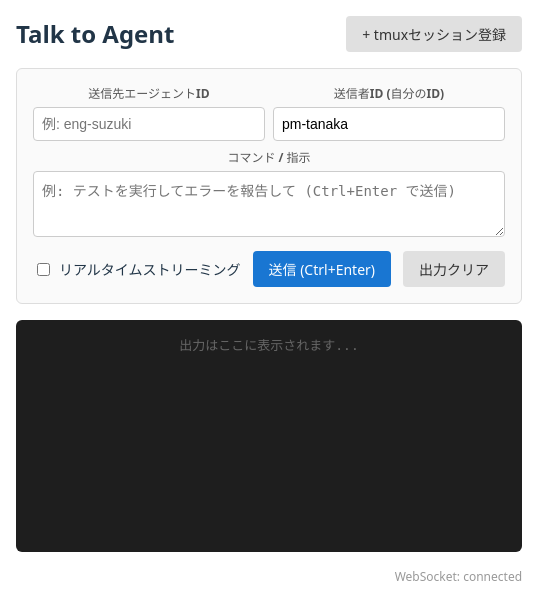
Scenario: TalkToAgent › 出力クリアボタンで出力がリセットされる
// Send something first
Step 1. Type "eng-test" into the field with placeholder "例: eng-suzuki" → coordinates (149, 124), box left=33, top=107, right=265, bottom=141
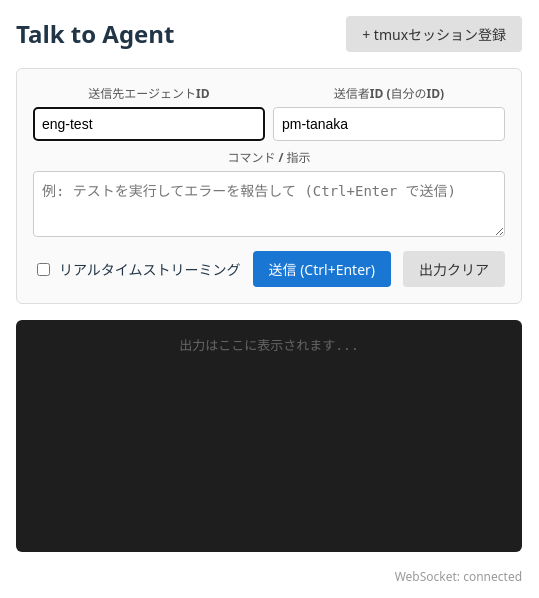
Step 2. Type "echo hello" into the text box with placeholder "例: テストを実行してエラーを報告して (Ctrl+Enter で送信)" → coordinates (269, 204), box left=33, top=171, right=505, bottom=237
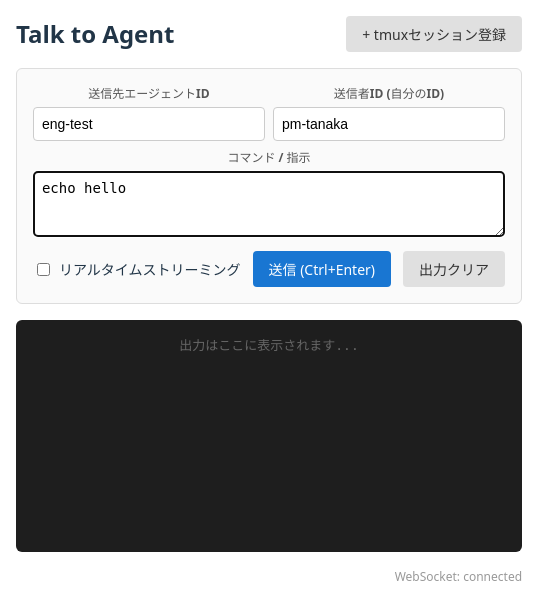
Step 3. Click the button "送信 (Ctrl+Enter)" → coordinates (322, 269), box left=252, top=251, right=391, bottom=287
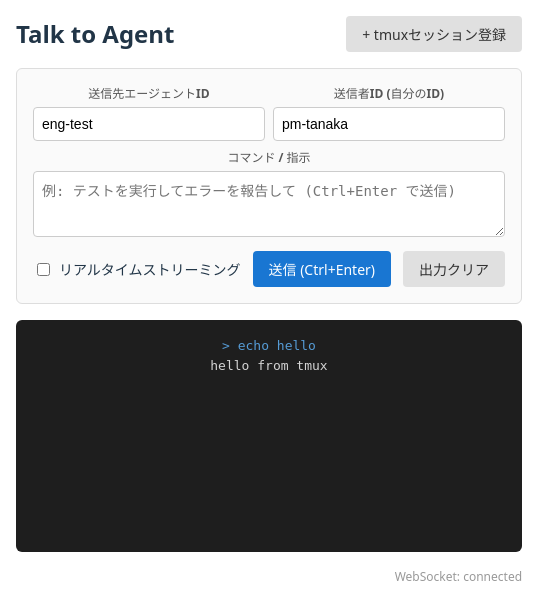
Now the text "hello from tmux" is shown, box left=210, top=358, right=328, bottom=372
Step 4. Click the button "出力クリア" → coordinates (454, 269), box left=403, top=251, right=505, bottom=287
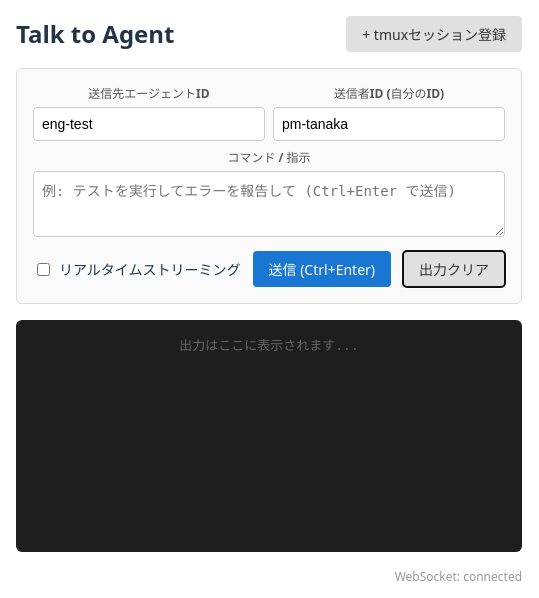
Now the text "hello from tmux" is gone
